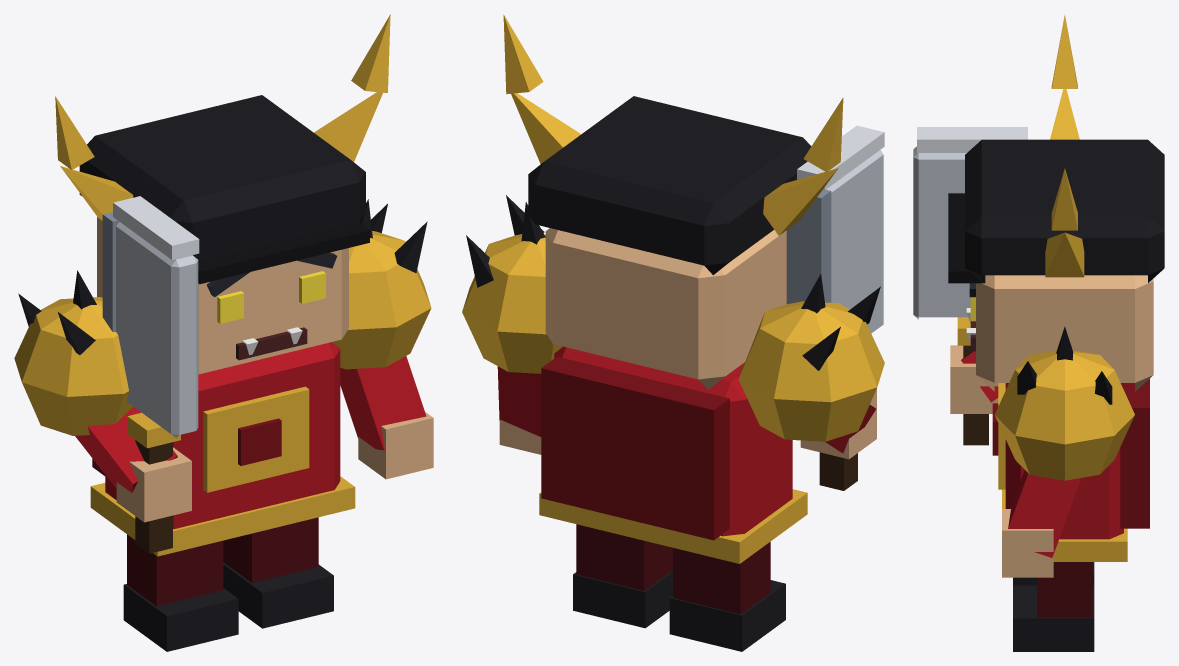
The model's file is warlord.glb.
The picture shows the model from 3 angles, left to right: view 1: azimuth 30°, elevation 25°; view 2: azimuth 150°, elevation 25°; view 3: azimuth 270°, elevation 25°; orthographic projection. The views are drawn at different scales.
Visible parts, largest first — view 1: warlord_mesh; view 2: warlord_mesh; view 3: warlord_mesh.
Part boxes in pixels (x1,y1,x2,y2): warlord_mesh: [14, 14, 433, 651]; warlord_mesh: [462, 14, 884, 651]; warlord_mesh: [913, 14, 1164, 651].
Size of the model in its own units: 2.72 by 3.6 by 1.57.
Materials: 1 (1 with a texture image).
